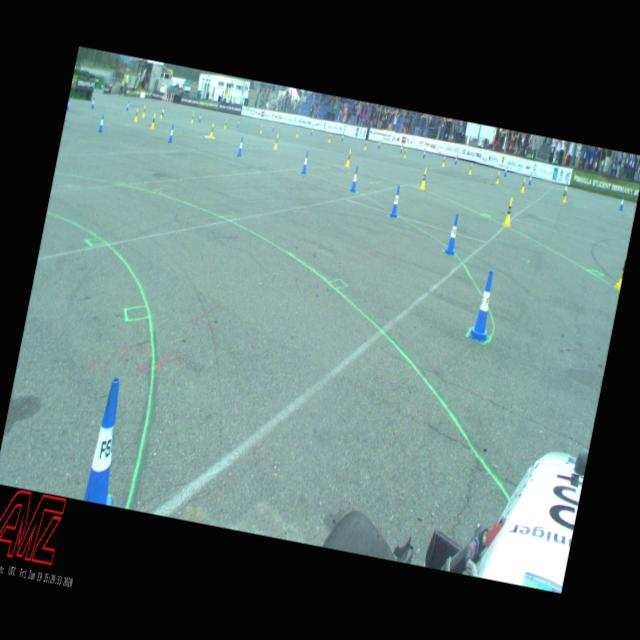blue_cone: (83, 376, 136, 506), (468, 269, 500, 344), (443, 214, 462, 256), (389, 186, 404, 218), (350, 166, 360, 193), (300, 152, 310, 174), (236, 136, 245, 158), (168, 124, 176, 144), (98, 114, 105, 132), (619, 195, 626, 211), (528, 173, 534, 185), (90, 98, 96, 109), (66, 98, 70, 111), (399, 144, 404, 154), (504, 166, 508, 178), (422, 149, 427, 158), (126, 102, 130, 112), (310, 127, 314, 136), (454, 155, 458, 164), (198, 114, 202, 122), (237, 119, 240, 128), (378, 140, 381, 149), (272, 123, 275, 131), (342, 133, 344, 141)
yellow_cone: (614, 252, 628, 290), (502, 197, 515, 227), (420, 168, 429, 190), (562, 186, 569, 204), (346, 148, 352, 168), (274, 134, 280, 150), (210, 123, 216, 139), (151, 114, 157, 129), (520, 178, 526, 193), (134, 109, 139, 122), (468, 163, 473, 175), (496, 172, 500, 184), (142, 106, 146, 118), (160, 108, 164, 120), (442, 156, 446, 167), (328, 134, 332, 144), (190, 114, 194, 123), (224, 120, 228, 129), (404, 148, 407, 158), (364, 140, 367, 150), (260, 125, 263, 134), (296, 129, 299, 138)
